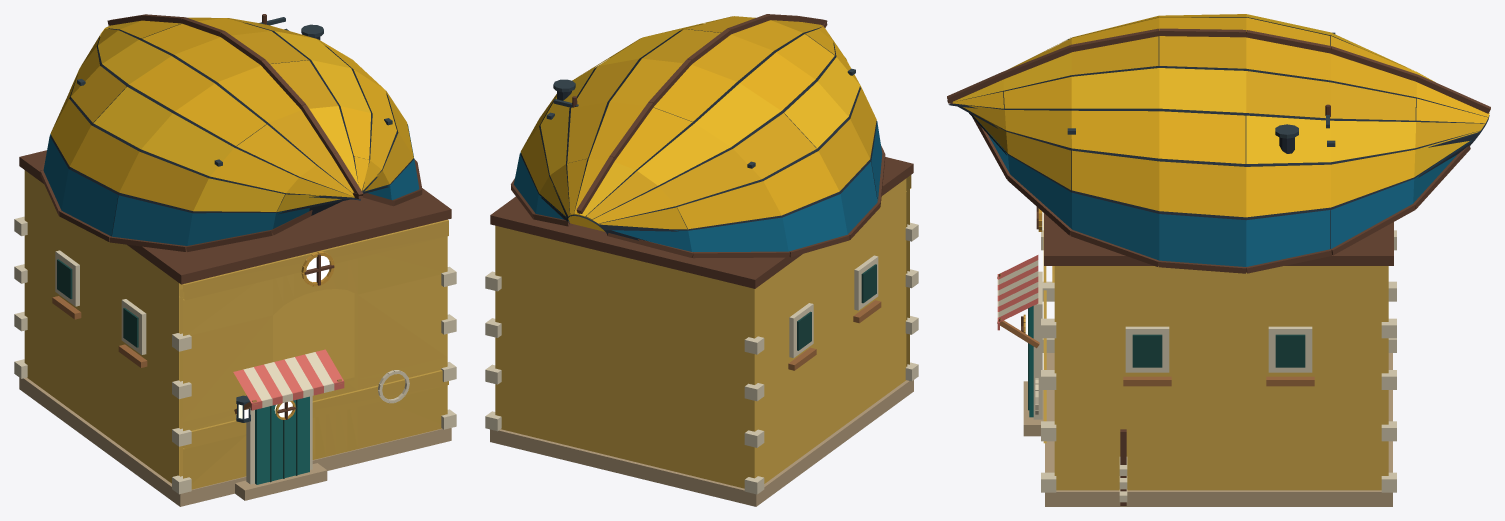
The model's file is net-loft-large-butter.glb.
3 renders of one model, left to right at view 1: azimuth 30°, elevation 25°; view 2: azimuth 150°, elevation 25°; view 3: azimuth 270°, elevation 25°, orthographic. The views are drawn at different scales.
Visible parts, largest first — view 1: net-loft-large-butter; view 2: net-loft-large-butter; view 3: net-loft-large-butter.
Boxes of the visible parts, x1,y1,x2,y2 form: net-loft-large-butter: (14, 14, 456, 506); net-loft-large-butter: (485, 14, 918, 506); net-loft-large-butter: (947, 14, 1490, 506).
Bounding box in the file's own units: 5.92 × 6.47 × 7.86.
